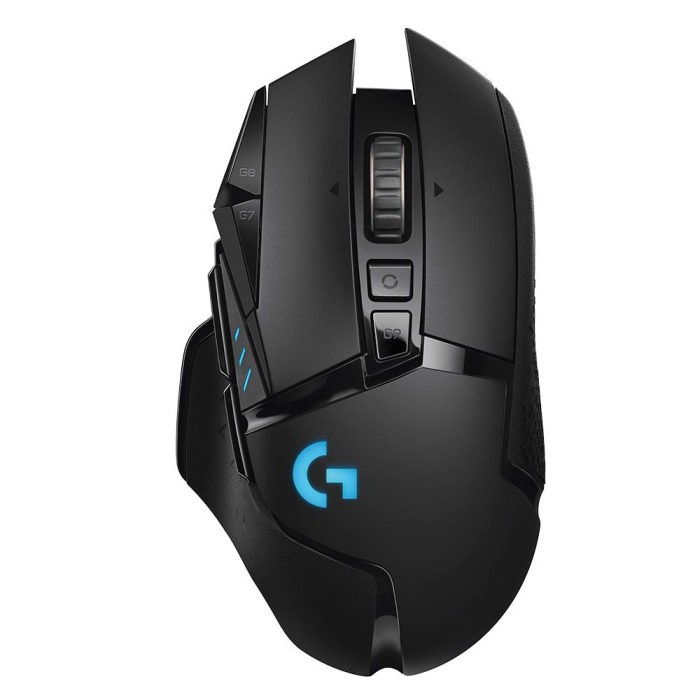mouse: (141, 35, 572, 682)
